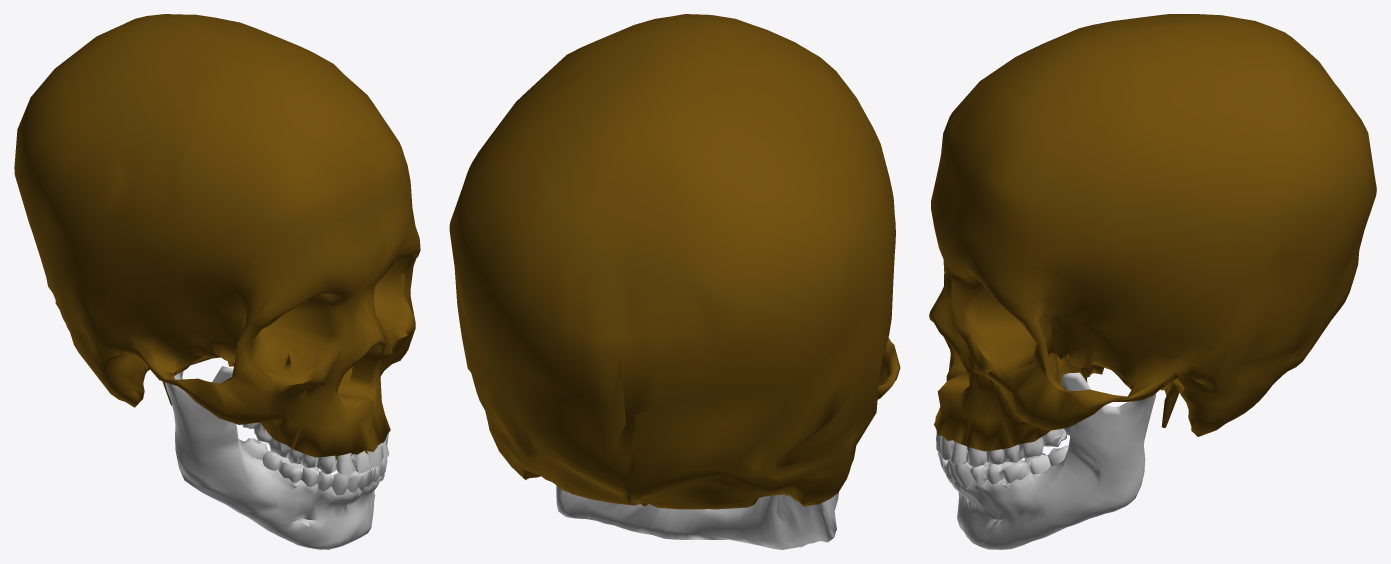
Rendered from skull.obj.
3 renders of one model, left to right at view 1: azimuth 30°, elevation 25°; view 2: azimuth 150°, elevation 25°; view 3: azimuth 270°, elevation 25°, orthographic. The views are drawn at different scales.
Parts seen in each view (by area): view 1: skull, jaw, lteeth, uteeth; view 2: skull, jaw; view 3: skull, jaw, lteeth, uteeth.
Part boxes in pixels (left/top/right/bottom): skull: left=14, top=14, right=420, bottom=460; jaw: left=165, top=366, right=384, bottom=549; lteeth: left=242, top=438, right=387, bottom=495; uteeth: left=242, top=422, right=389, bottom=475; skull: left=449, top=14, right=900, bottom=509; jaw: left=556, top=485, right=838, bottom=549; skull: left=929, top=14, right=1376, bottom=451; jaw: left=943, top=372, right=1156, bottom=549; lteeth: left=938, top=445, right=1068, bottom=487; uteeth: left=936, top=427, right=1069, bottom=467.
Bounding box in the file's own units: 5.23 × 7.32 × 6.14.
